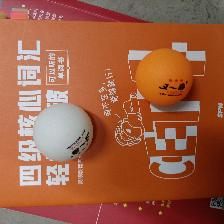WhiteBall: (33, 103, 93, 161)
YellowBall: (135, 48, 193, 106)
